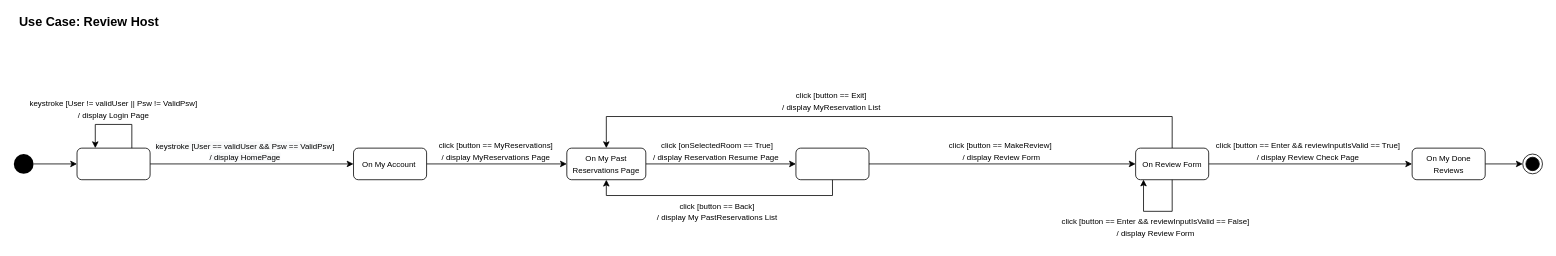
The diagram is 1556 pixels wide and 256 high, and some of its shapes have lost their labels. The centre of each missing label's shape, as x and y in pixels:
On Login Page: the point at 113,163
On Room's Owner Page: the point at 832,163
